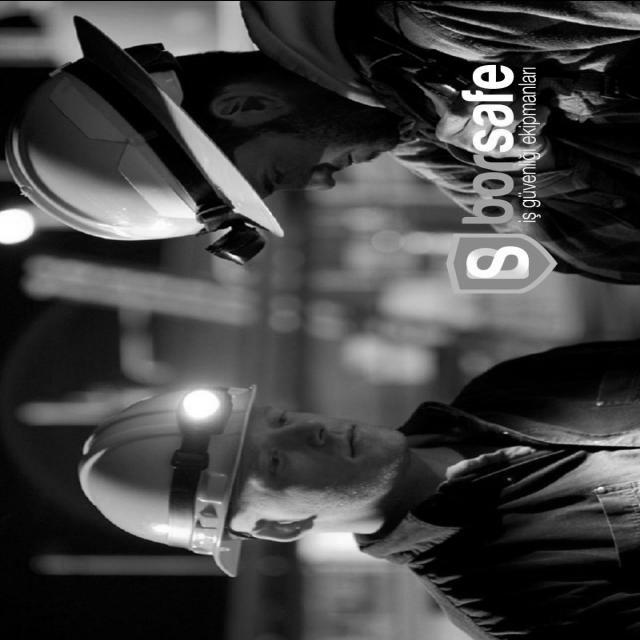construction helmet: (8, 16, 285, 263), (78, 379, 261, 577)
